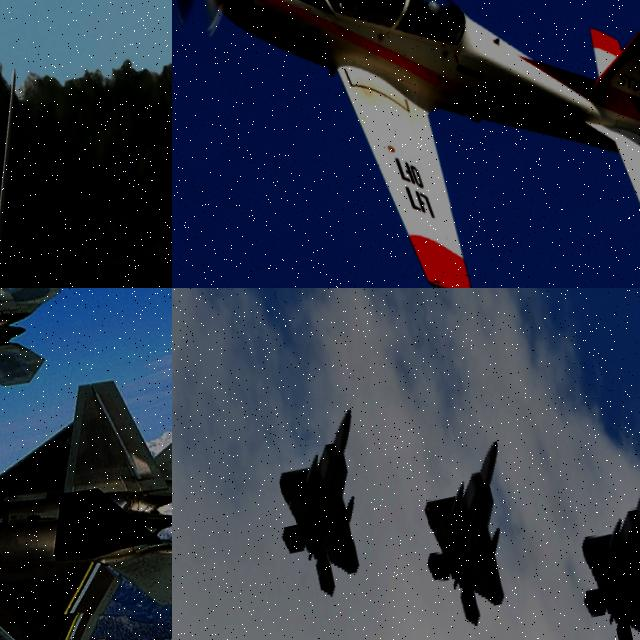F22: (0, 360, 172, 640), (0, 32, 172, 288), (259, 406, 389, 603), (404, 438, 534, 632), (0, 288, 85, 497), (561, 468, 640, 640)
KT-1: (172, 0, 640, 288)
